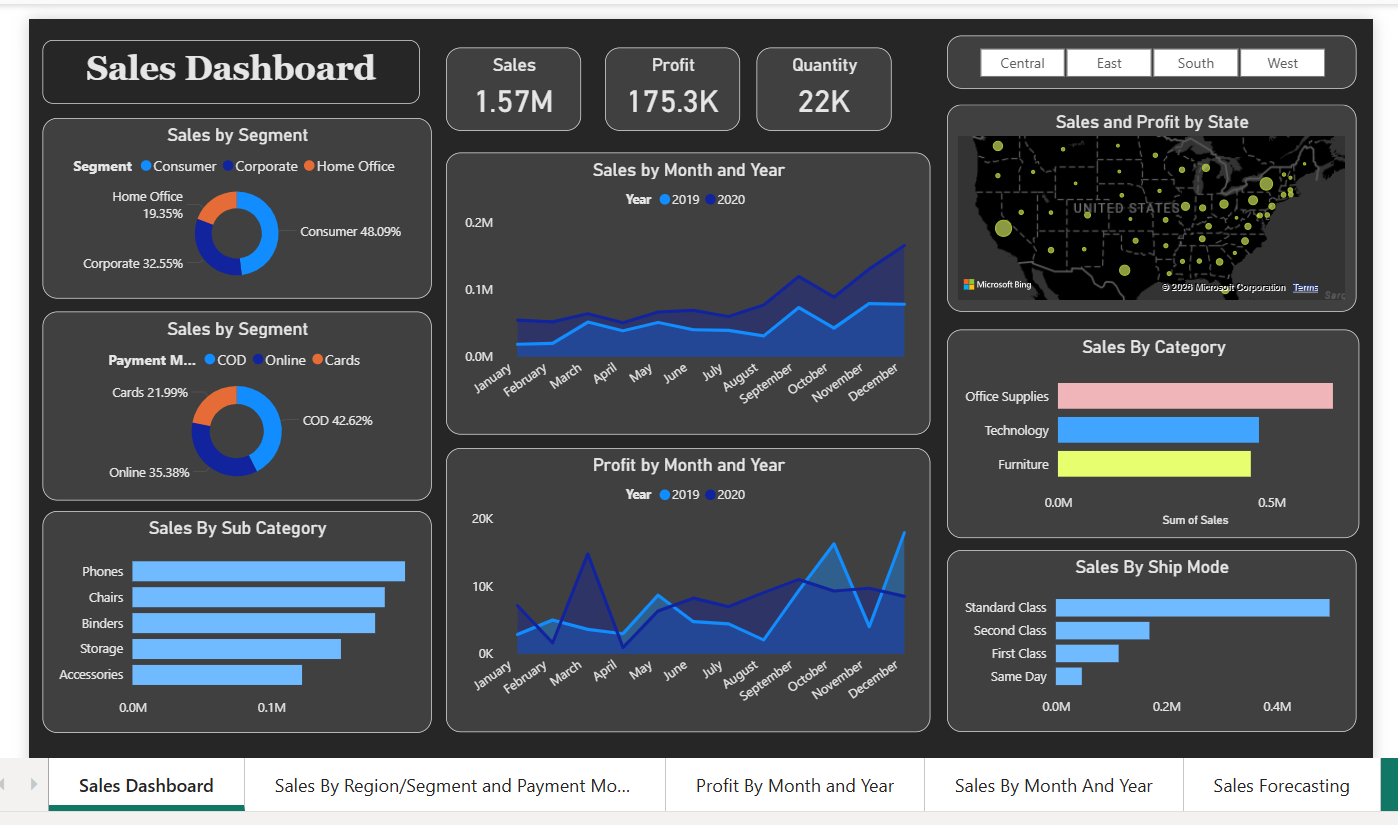

What the dashboard file says about the page in this screenshot:
{"tool":"powerbi","page":{"name":"Sales Dashboard","canvas":[1280,720],"ordinal":0},"visuals":[{"type":"barChart","title":"Sales By Category","fields":{"Category":["SuperStore_Sales_Dataset.Category"],"Y":["Sum(SuperStore_Sales_Dataset.Sales)"]},"box":[874.8,295.9,392.9,198.8],"z":0},{"type":"barChart","title":"Sales By Sub Category","fields":{"Y":["Sum(SuperStore_Sales_Dataset.Sales)"],"Category":["SuperStore_Sales_Dataset.Sub-Category"]},"box":[12.7,469.2,370.6,211.6],"z":1000},{"type":"barChart","title":"Sales By Ship Mode","fields":{"Y":["Sum(SuperStore_Sales_Dataset.Sales)"],"Category":["SuperStore_Sales_Dataset.Ship Mode"]},"box":[874.8,505.8,389.7,173.4],"z":2000},{"type":"areaChart","title":"Sales by Month and Year","fields":{"Y":["Sum(SuperStore_Sales_Dataset.Sales)"],"Category":["SuperStore_Sales_Dataset.Order Date.Variation.Date Hierarchy.Month"],"Series":["SuperStore_Sales_Dataset.Order Date.Variation.Date Hierarchy.Year"]},"box":[397.7,127.2,461.3,268.8],"z":3000},{"type":"areaChart","title":"Profit by Month and Year","fields":{"Category":["SuperStore_Sales_Dataset.Order Date.Variation.Date Hierarchy.Month"],"Series":["SuperStore_Sales_Dataset.Order Date.Variation.Date Hierarchy.Year"],"Y":["Sum(SuperStore_Sales_Dataset.Profit)"]},"box":[397.7,408.8,461.3,270.4],"z":4000},{"type":"map","title":"Sales and Profit by State","fields":{"Category":["SuperStore_Sales_Dataset.State"],"Size":["Sum(SuperStore_Sales_Dataset.Sales)"]},"box":[874.8,81.1,389.7,197.2],"z":5000},{"type":"textbox","box":[12.7,20.7,359.5,60.4],"z":6000},{"type":"donutChart","title":"Sales by Segment","fields":{"Y":["Sum(SuperStore_Sales_Dataset.Sales)"],"Category":["SuperStore_Sales_Dataset.Payment Mode"]},"box":[12.7,278.4,370.6,179.7],"z":7000},{"type":"donutChart","title":"Sales by Segment","fields":{"Category":["SuperStore_Sales_Dataset.Segment"],"Y":["Sum(SuperStore_Sales_Dataset.Sales)"]},"box":[12.7,93.8,370.6,171.8],"z":8000},{"type":"slicer","fields":{"Values":["SuperStore_Sales_Dataset.Region"]},"box":[874.8,15.9,389.7,50.9],"z":9000},{"type":"card","title":"Sales","fields":{"Values":["Sum(SuperStore_Sales_Dataset.Sales)"]},"box":[397.7,27,128.8,79.5],"z":10000},{"type":"card","title":"Profit","fields":{"Values":["Sum(SuperStore_Sales_Dataset.Profit)"]},"box":[548.8,27,128.8,79.5],"z":11000},{"type":"card","title":"Quantity","fields":{"Values":["Sum(SuperStore_Sales_Dataset.Quantity)"]},"box":[693.5,27,128.8,79.5],"z":12000}]}

Visuals, with their boxes on the page's 1280x720 design canvas (x1, y1, x2, y2). These are canvas units, not pixel positions in the 1398x825 screenshot, which may show the page scaled, cropped or inside an application window:
"Sales By Category" barChart: box=[875, 296, 1268, 495]
"Sales By Sub Category" barChart: box=[13, 469, 383, 681]
"Sales By Ship Mode" barChart: box=[875, 506, 1264, 679]
"Sales by Month and Year" areaChart: box=[398, 127, 859, 396]
"Profit by Month and Year" areaChart: box=[398, 409, 859, 679]
"Sales and Profit by State" map: box=[875, 81, 1264, 278]
textbox: box=[13, 21, 372, 81]
"Sales by Segment" donutChart: box=[13, 278, 383, 458]
"Sales by Segment" donutChart: box=[13, 94, 383, 266]
slicer - SuperStore_Sales_Dataset.Region: box=[875, 16, 1264, 67]
"Sales" card: box=[398, 27, 526, 106]
"Profit" card: box=[549, 27, 678, 106]
"Quantity" card: box=[694, 27, 822, 106]
